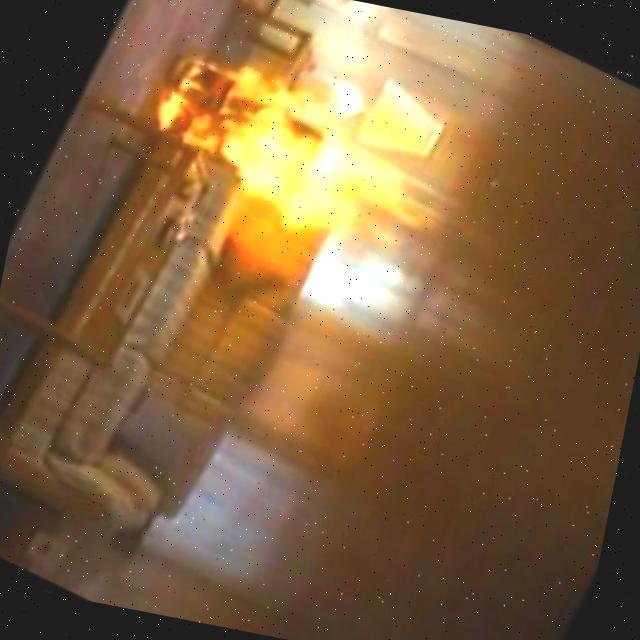fire: (114, 22, 490, 294)
